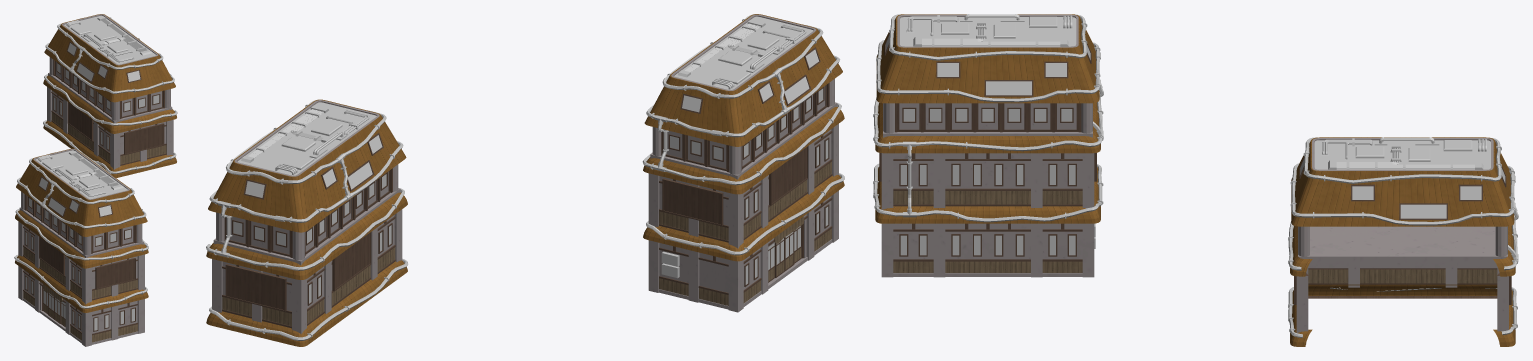
File: MERGED_SM_ENV_KNVLLG_CommonBuilding_C_2.mo.fbx
3 views of the same model, side by side, from view 1: azimuth 30°, elevation 25°; view 2: azimuth 150°, elevation 25°; view 3: azimuth 270°, elevation 25° (orthographic). The views are drawn at different scales.
Parts seen in each view (by area): view 1: MERGED_SM_ENV_KNVLLG_CommonBuilding_C_2.mo; view 2: MERGED_SM_ENV_KNVLLG_CommonBuilding_C_2.mo; view 3: MERGED_SM_ENV_KNVLLG_CommonBuilding_C_2.mo.
Boxes of the visible parts, bbox=[...] form: MERGED_SM_ENV_KNVLLG_CommonBuilding_C_2.mo: bbox=[14, 14, 177, 346]; MERGED_SM_ENV_KNVLLG_CommonBuilding_C_2.mo: bbox=[206, 14, 844, 346]; MERGED_SM_ENV_KNVLLG_CommonBuilding_C_2.mo: bbox=[873, 14, 1518, 346].
Bounding box in the file's own units: 32.25 × 19.4 × 49.83.
